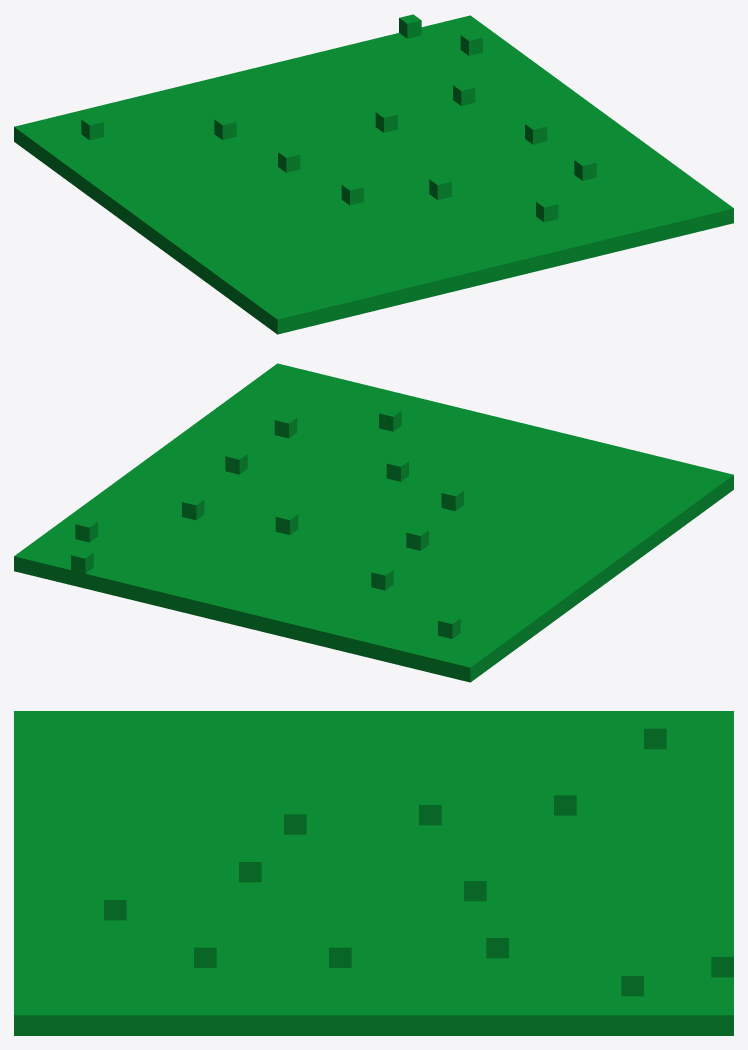
The model's file is env_grass1b.dae.
3 views of the same model, one above another, from view 1: azimuth 30°, elevation 25°; view 2: azimuth 150°, elevation 25°; view 3: azimuth 270°, elevation 25° (orthographic). The views are drawn at different scales.
Parts seen in each view (by area): view 1: env_grass1b; view 2: env_grass1b; view 3: env_grass1b.
Part boxes in pixels (bbox=[...]): env_grass1b: bbox=[14, 14, 733, 334]; env_grass1b: bbox=[14, 363, 733, 682]; env_grass1b: bbox=[14, 711, 733, 1035].
Bounding box in the file's own units: 3.2 × 3.2 × 0.2.
1 material, 1 textured.
